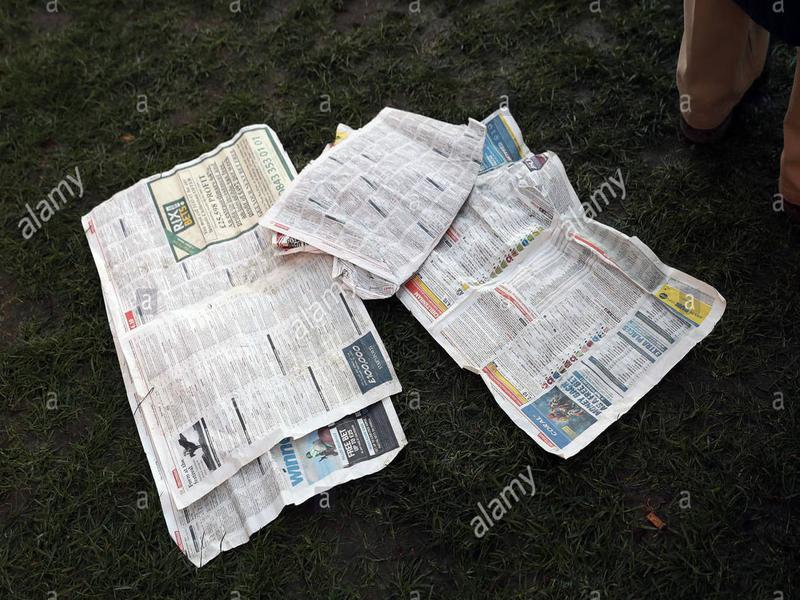paper: (73, 115, 413, 571), (392, 110, 733, 466), (258, 96, 488, 304)
